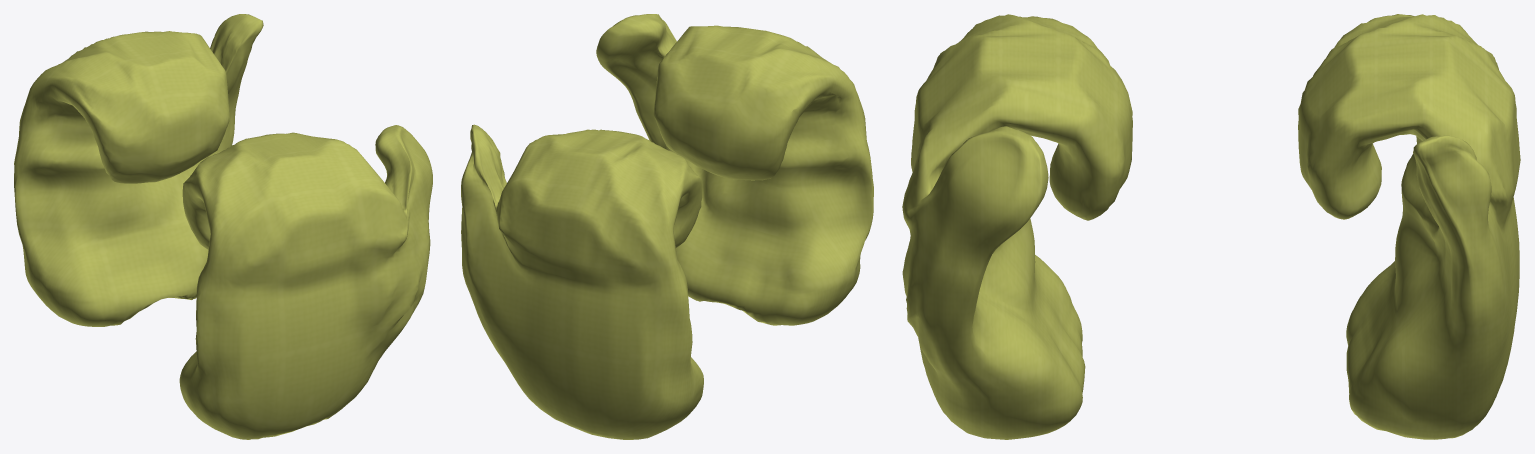
File: Boxing_Gloves.fbx
3 views of the same model, side by side, from view 1: azimuth 30°, elevation 25°; view 2: azimuth 150°, elevation 25°; view 3: azimuth 270°, elevation 25° (orthographic). The views are drawn at different scales.
Visible parts, largest first — view 1: pSphere1, pSphere2; view 2: pSphere2, pSphere1; view 3: pSphere1, pSphere2.
Boxes of the visible parts, bbox=[...] form: pSphere1: bbox=[179, 125, 432, 439]; pSphere2: bbox=[14, 14, 263, 326]; pSphere2: bbox=[461, 124, 703, 439]; pSphere1: bbox=[596, 14, 873, 325]; pSphere1: bbox=[902, 14, 1132, 439]; pSphere2: bbox=[1298, 14, 1520, 439].
Bounding box in the file's own units: 2.27 × 2.37 × 3.49.
1 material, 1 textured.
